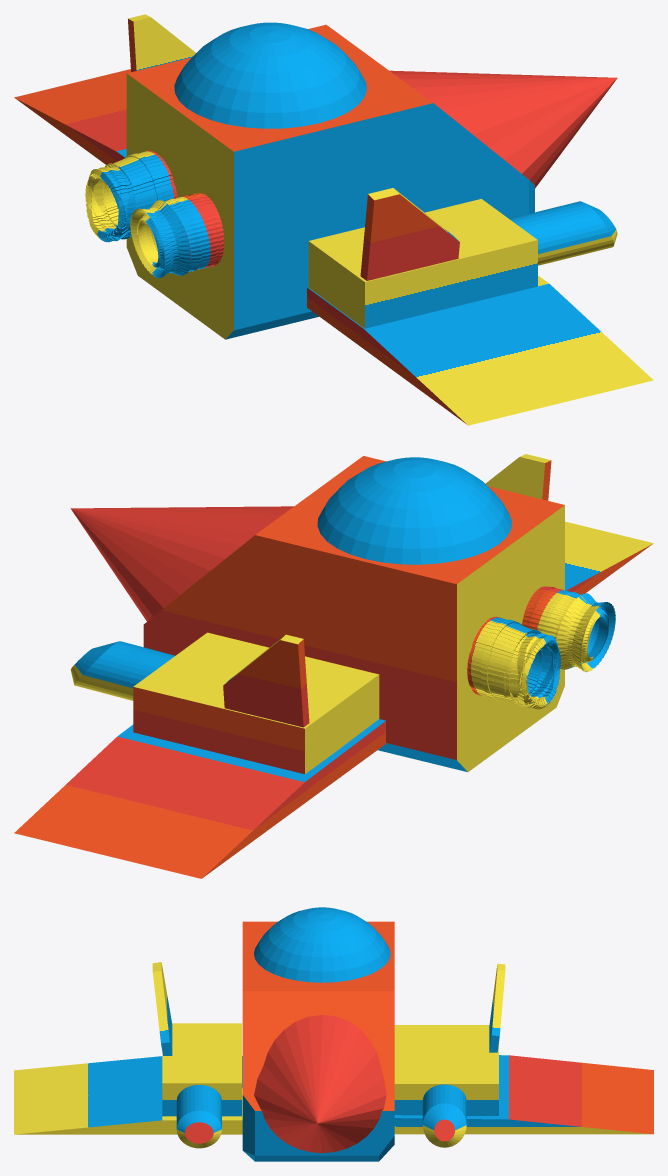
File: ToffiiShip.obj
3 views of the same model, one above another, from view 1: azimuth 30°, elevation 25°; view 2: azimuth 150°, elevation 25°; view 3: azimuth 270°, elevation 25° (orthographic). The views are drawn at different scales.
Visible parts, largest first — view 1: Cube; view 2: Cube; view 3: Cube.
Boxes of the visible parts, left/top/right/bottom form: Cube: left=14, top=14, right=653, bottom=425; Cube: left=14, top=454, right=653, bottom=878; Cube: left=14, top=907, right=653, bottom=1161.
Bounding box in the file's own units: 5.37 × 2.57 × 8.42.
